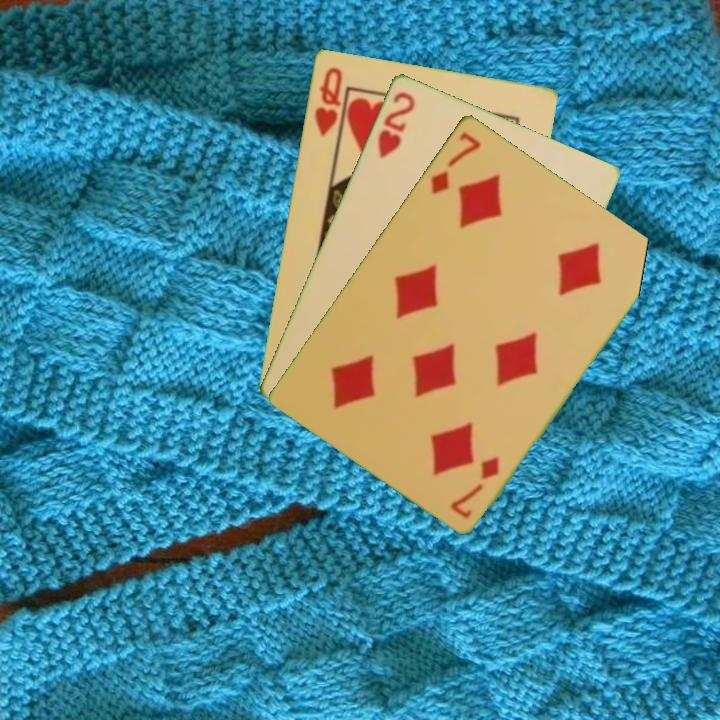2h: (373, 87, 418, 161)
7d: (427, 128, 484, 197), (446, 452, 502, 521)
Qh: (310, 63, 345, 139)
